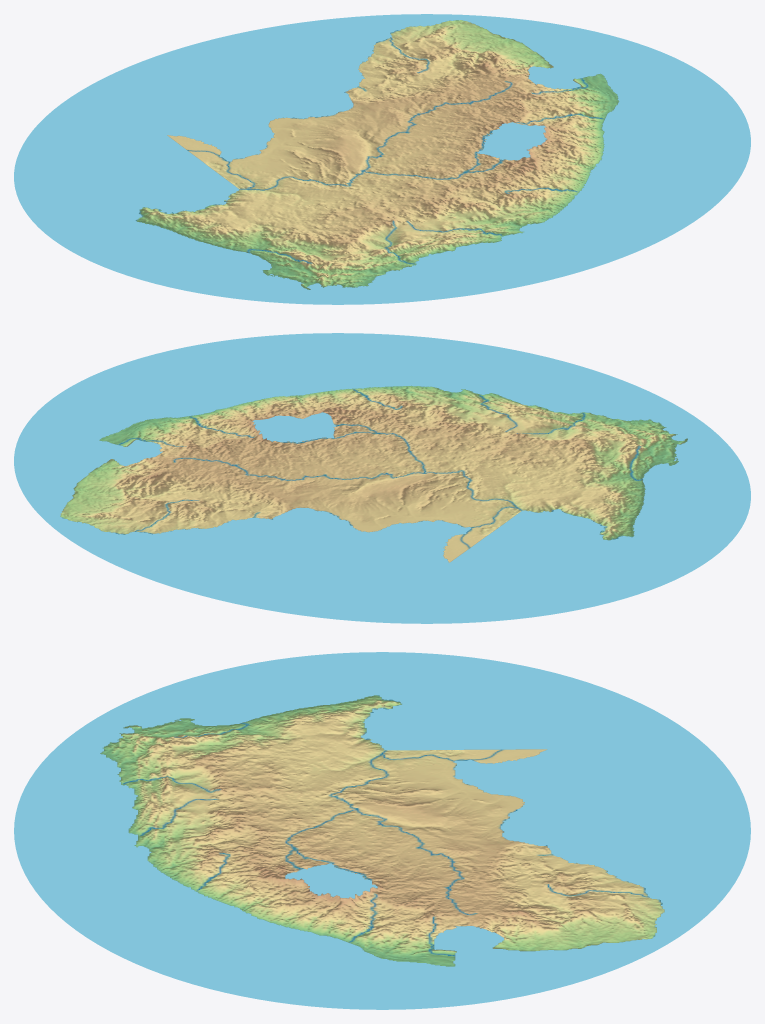
Rendered from ZAF-terrain.glb.
The picture shows the model from 3 angles, top to bottom: view 1: azimuth 30°, elevation 25°; view 2: azimuth 150°, elevation 25°; view 3: azimuth 270°, elevation 25°; orthographic projection. The views are drawn at different scales.
Visible parts, largest first — view 1: Relevo com hidrografia; view 2: Relevo com hidrografia; view 3: Relevo com hidrografia.
Boxes of the visible parts, <box> form: Relevo com hidrografia: <box>14,14,750,304</box>; Relevo com hidrografia: <box>14,333,750,623</box>; Relevo com hidrografia: <box>14,652,750,1009</box>.
Size of the model in its own units: 2.12 by 0.0362 by 1.84.
2 materials, 1 textured.
